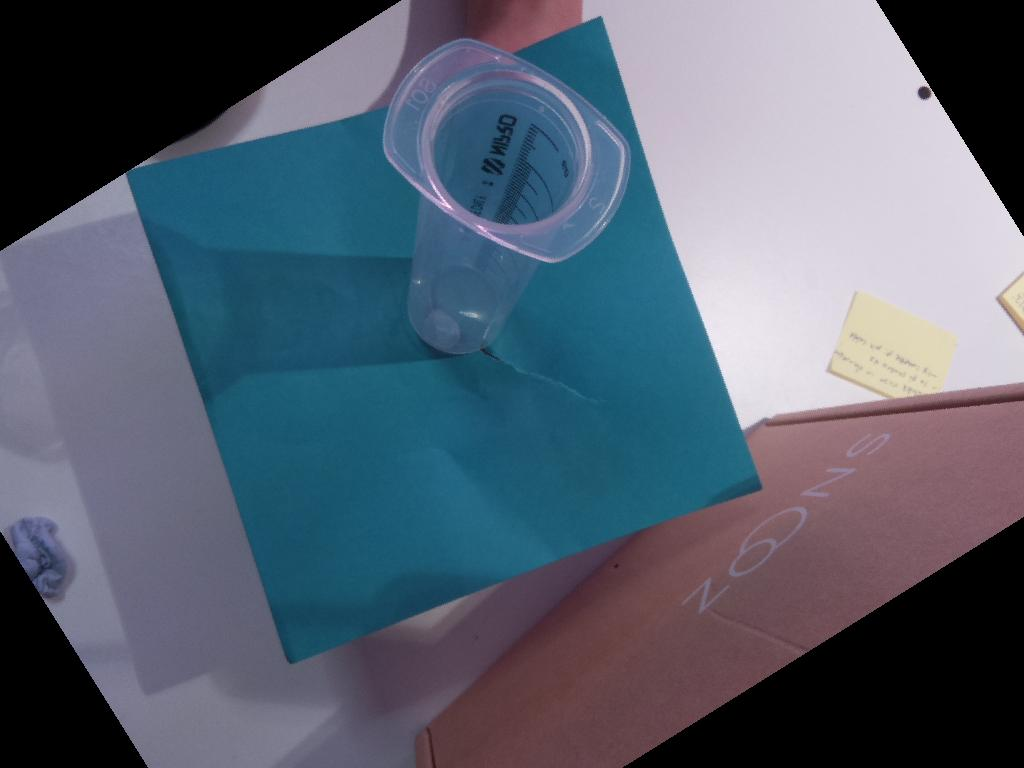clean: (383, 37, 633, 262)
